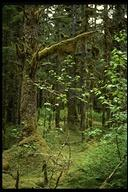tree: (7, 9, 123, 184)
